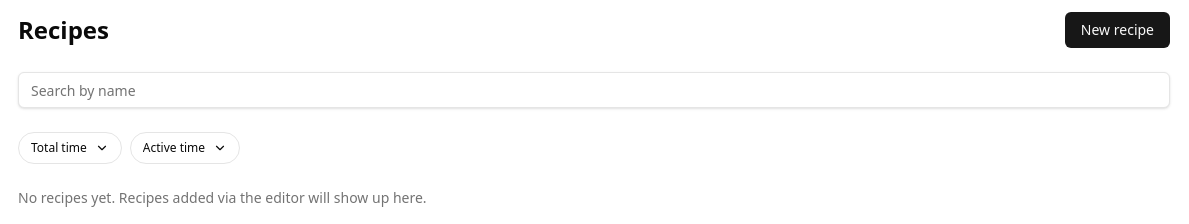
Test case: RecipesPage › shows a distinct empty-state message when a search finds nothing
This screenshot has width=1189, height=224.
In the search field named "search recipes": (594, 90) [18,72,1170,108], type "zzz"
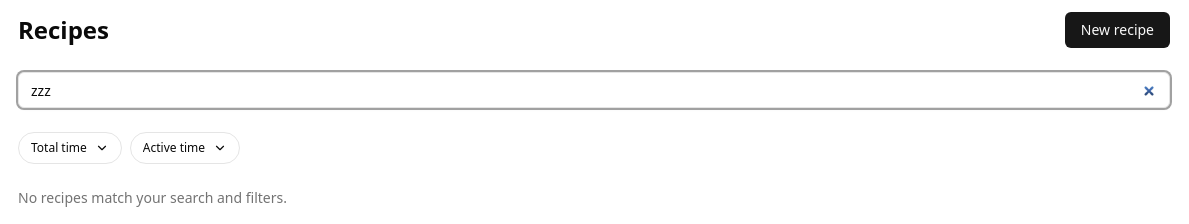
expect the text "No recipes match your search and filters." is shown: met, box [18,188,287,207]
